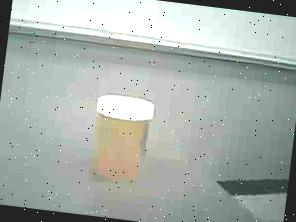Bottle B: (78, 85, 168, 196)
